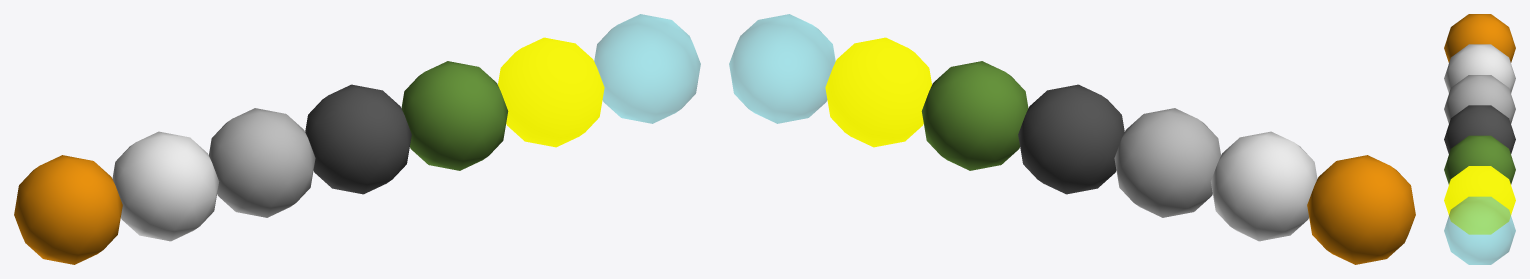
Rendered from materials.gltf.
3 renders of one model, left to right at view 1: azimuth 30°, elevation 25°; view 2: azimuth 150°, elevation 25°; view 3: azimuth 270°, elevation 25°, orthographic. The views are drawn at different scales.
Visible parts, largest first — view 1: Icosphere, Icosphere.002, Icosphere.004, Icosphere.001, Icosphere.005, Icosphere.003, Icosphere.006; view 2: Icosphere, Icosphere.002, Icosphere.004, Icosphere.001, Icosphere.005, Icosphere.003, Icosphere.006; view 3: Icosphere.005, Icosphere.006, Icosphere.002, Icosphere, Icosphere.004, Icosphere.001, Icosphere.003.
Boxes of the visible parts, x1=… form: Icosphere: x1=14, y1=155, x2=122, y2=264; Icosphere.002: x1=209, y1=108, x2=315, y2=217; Icosphere.004: x1=401, y1=61, x2=508, y2=170; Icosphere.001: x1=112, y1=131, x2=219, y2=241; Icosphere.005: x1=498, y1=37, x2=604, y2=147; Icosphere.003: x1=305, y1=84, x2=411, y2=194; Icosphere.006: x1=594, y1=14, x2=700, y2=123; Icosphere: x1=1307, y1=155, x2=1415, y2=264; Icosphere.002: x1=1114, y1=108, x2=1220, y2=217; Icosphere.004: x1=921, y1=61, x2=1028, y2=170; Icosphere.001: x1=1210, y1=131, x2=1317, y2=241; Icosphere.005: x1=825, y1=37, x2=931, y2=147; Icosphere.003: x1=1018, y1=84, x2=1124, y2=194; Icosphere.006: x1=729, y1=14, x2=835, y2=123; Icosphere.005: x1=1444, y1=166, x2=1515, y2=234; Icosphere.006: x1=1444, y1=196, x2=1515, y2=264; Icosphere.002: x1=1444, y1=75, x2=1515, y2=123; Icosphere: x1=1444, y1=14, x2=1515, y2=62; Icosphere.004: x1=1444, y1=135, x2=1515, y2=184; Icosphere.001: x1=1444, y1=44, x2=1515, y2=93; Icosphere.003: x1=1444, y1=105, x2=1515, y2=153.
Size of the model in its own units: 13.9 by 2 by 2.
